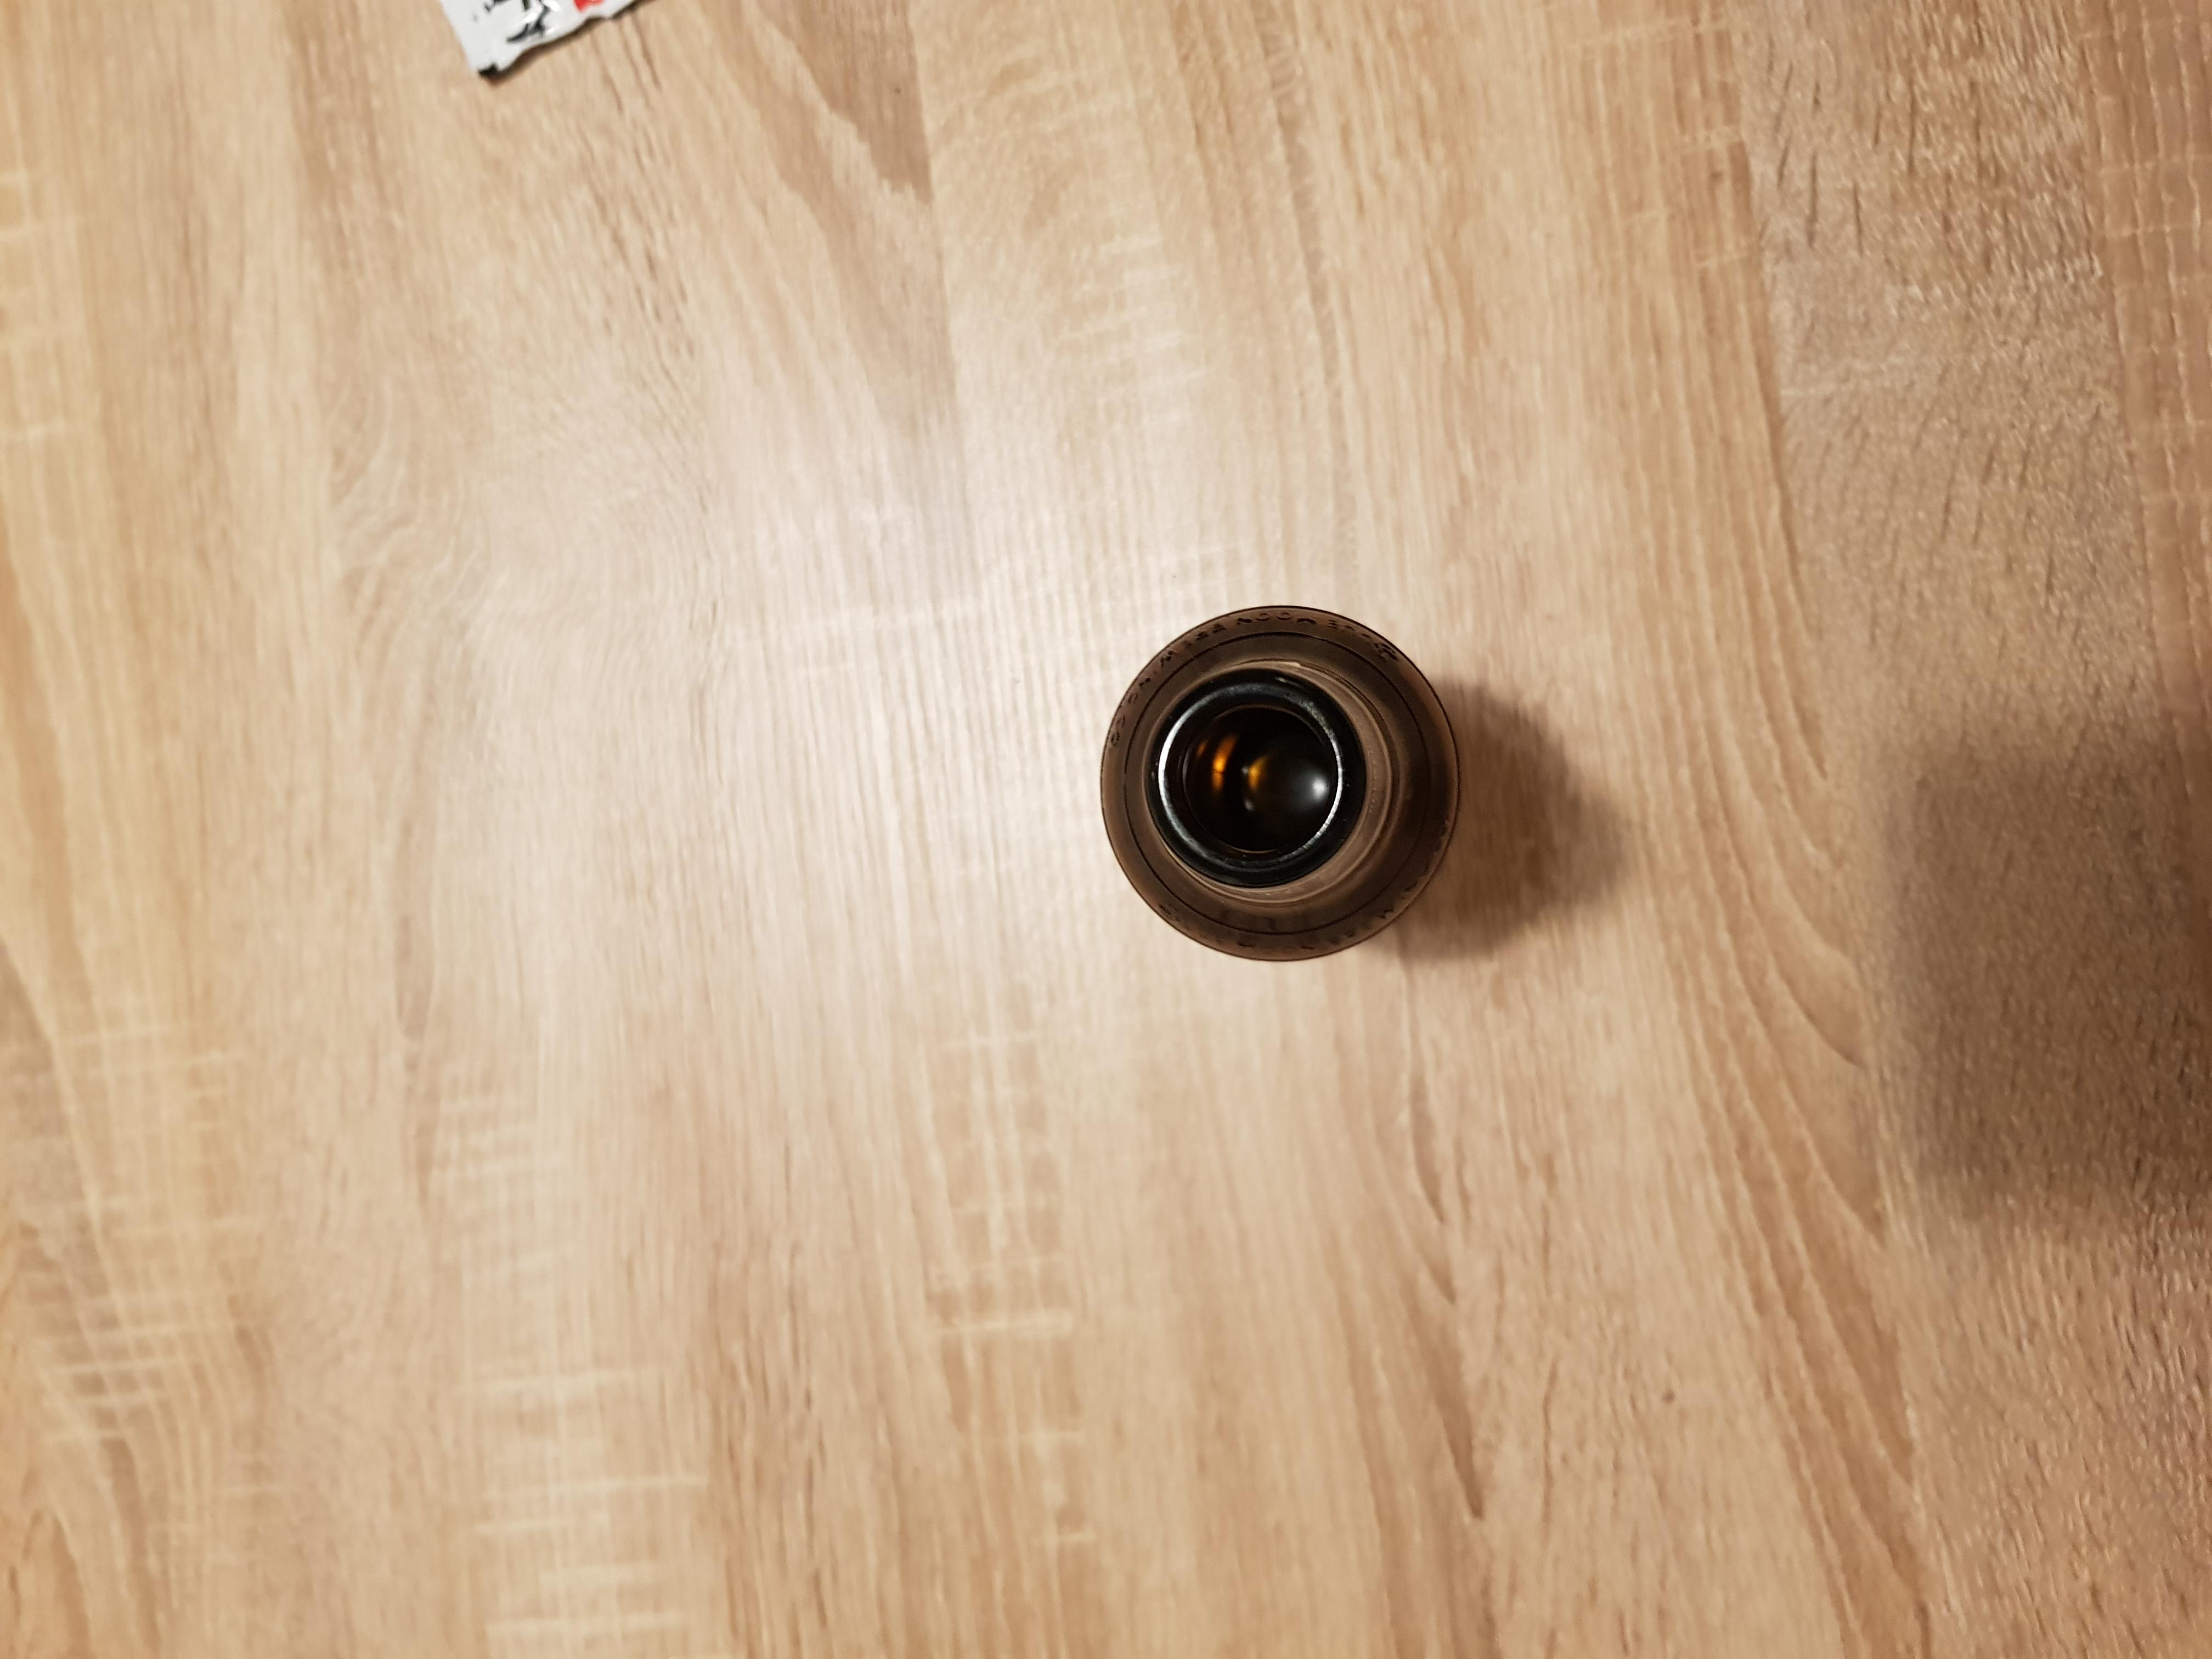Bottle: (1090, 601, 1472, 969)
